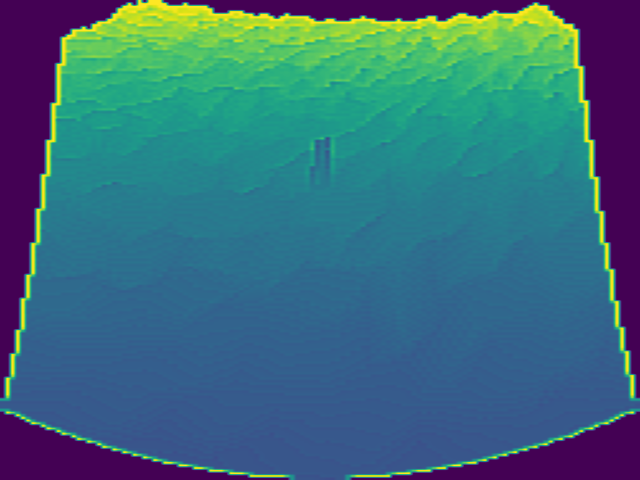car_0198: (311, 137, 334, 189)
